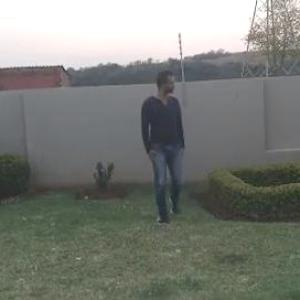follow: (143, 63, 195, 243)
